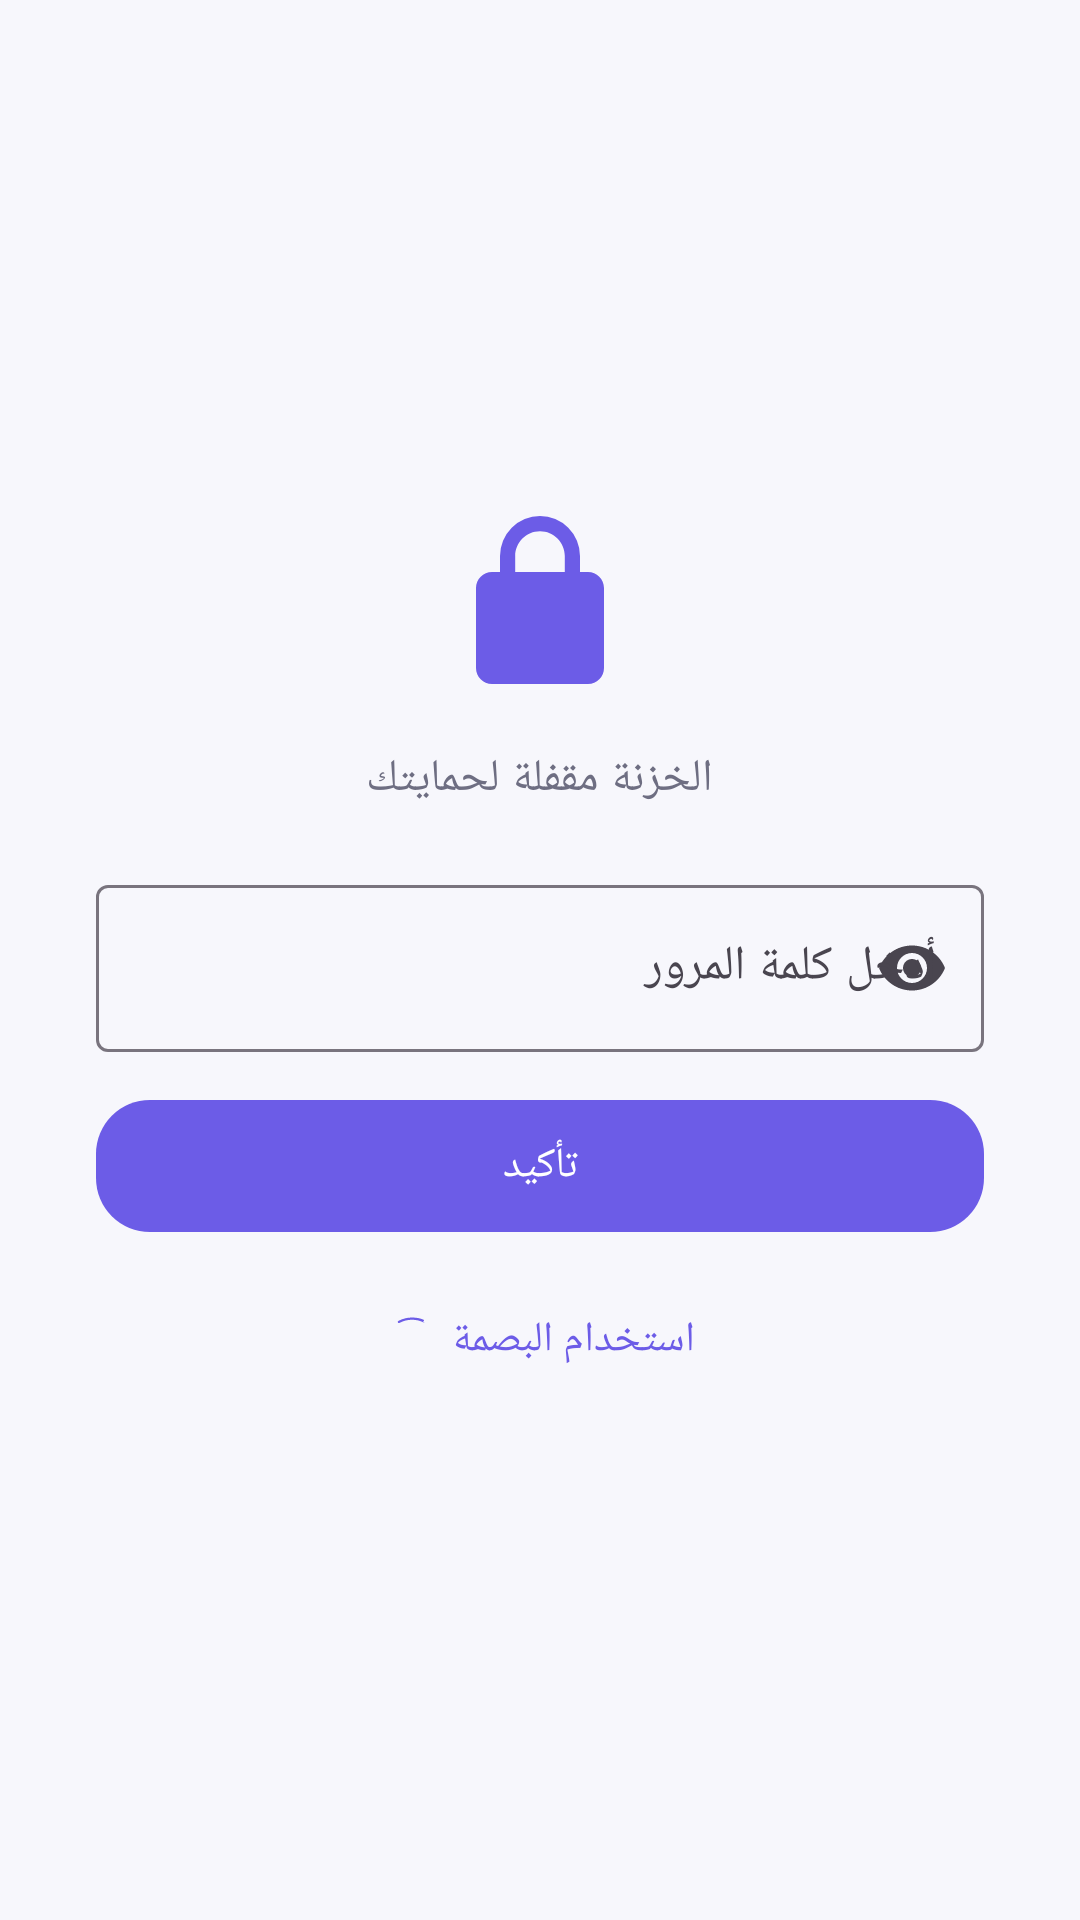

Screen size 1080px×1920px. Icon name, then its center in pixels as point (x, y):
lock: point (540, 600)
